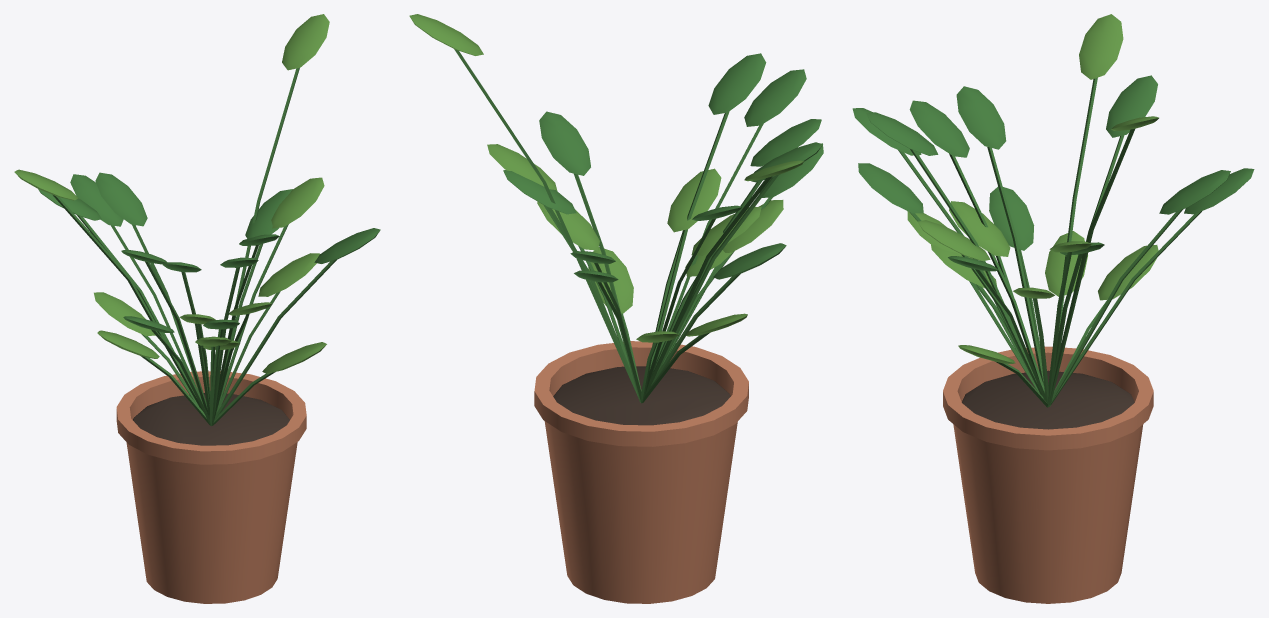
File: floor_plant_3.glb
3 views of the same model, side by side, from view 1: azimuth 30°, elevation 25°; view 2: azimuth 150°, elevation 25°; view 3: azimuth 270°, elevation 25° (orthographic). The views are drawn at different scales.
Visible parts, largest first — view 1: Pot, Leaves, Leaves light, Soil; view 2: Pot, Leaves, Leaves light, Soil; view 3: Pot, Leaves, Leaves light, Soil.
Part boxes in pixels (bbox=[...]): Pot: bbox=[116, 371, 306, 603]; Leaves: bbox=[38, 68, 380, 425]; Leaves light: bbox=[14, 14, 329, 373]; Soil: bbox=[133, 393, 289, 445]; Pot: bbox=[534, 341, 748, 603]; Leaves: bbox=[454, 49, 823, 403]; Leaves light: bbox=[409, 14, 803, 342]; Soil: bbox=[553, 366, 730, 425]; Pot: bbox=[943, 346, 1153, 603]; Leaves: bbox=[852, 75, 1254, 407]; Leaves light: bbox=[907, 14, 1158, 363]; Soil: bbox=[962, 370, 1134, 429].
Bounding box in the file's own units: 0.7704 × 1.1 × 0.741.
